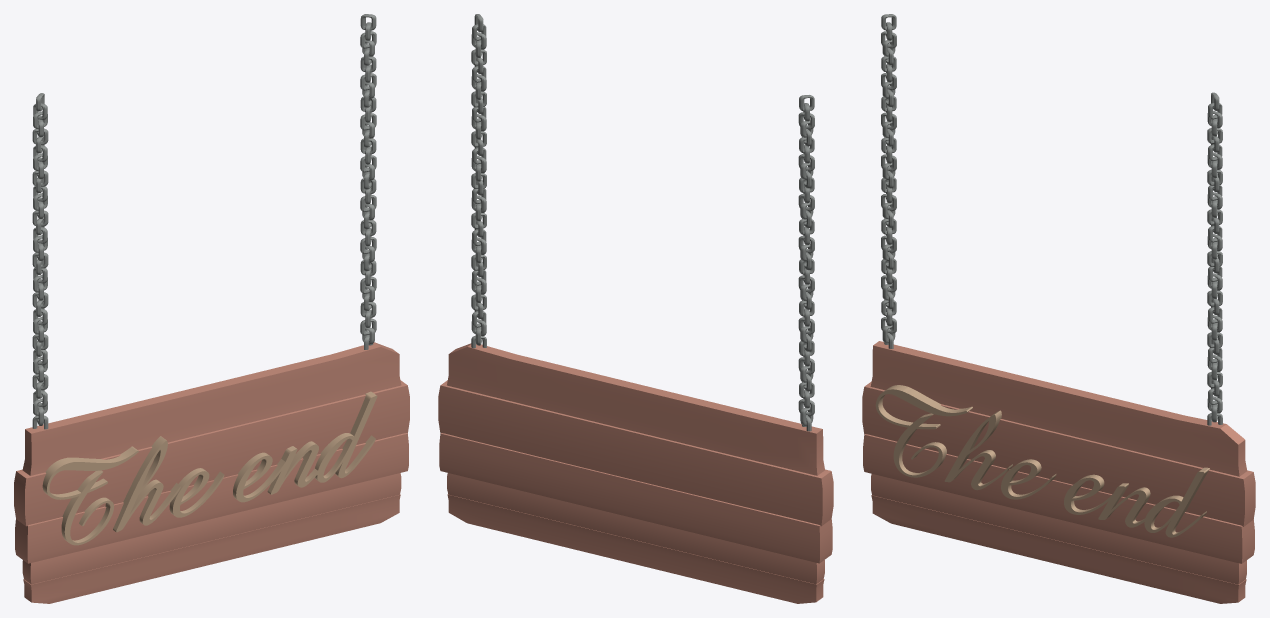
The model's file is TheEndSign.fbx.
3 views of the same model, side by side, from view 1: azimuth 30°, elevation 25°; view 2: azimuth 150°, elevation 25°; view 3: azimuth 330°, elevation 25° (orthographic).
Visible parts, largest first — view 1: Cube.024; view 2: Cube.024; view 3: Cube.024.
Boxes of the visible parts, x1,y1,x2,y2 form: Cube.024: (14, 14, 409, 603); Cube.024: (438, 14, 833, 603); Cube.024: (862, 14, 1255, 603).
Size of the model in its own units: 453 by 571 by 32.54.
